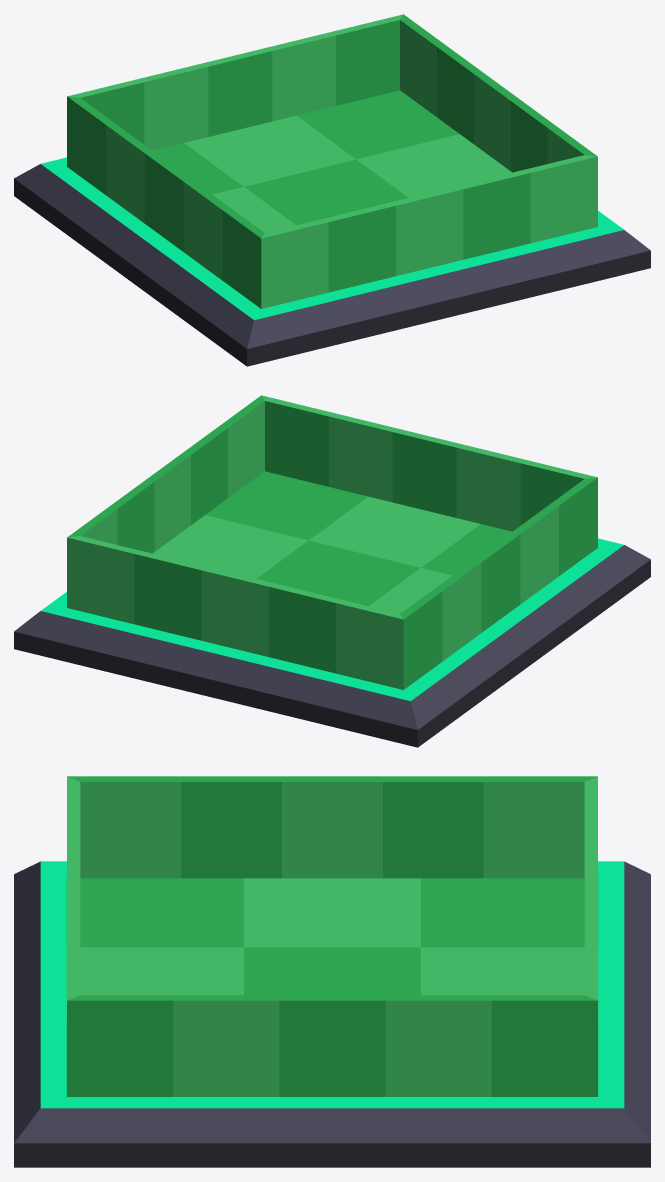
File: PMP-M-Checkpoint-V1.fbx
The picture shows the model from 3 angles, top to bottom: view 1: azimuth 30°, elevation 25°; view 2: azimuth 150°, elevation 25°; view 3: azimuth 270°, elevation 25°; orthographic projection. The views are drawn at different scales.
Parts seen in each view (by area): view 1: Checkpoint; view 2: Checkpoint; view 3: Checkpoint.
Part boxes in pixels (bbox=[...]): Checkpoint: bbox=[14, 14, 650, 366]; Checkpoint: bbox=[14, 395, 650, 747]; Checkpoint: bbox=[14, 776, 650, 1167].
Size of the model in its own units: 240 by 60 by 240.
